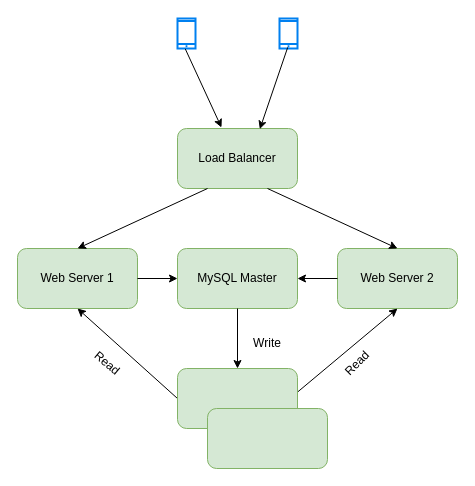
This 475x486 diagram has some shape labels left out. The box of each missing label's shape, as (x1, y1, x2, y2) in pixels:
MySQL Slave 1: (176, 368, 298, 428)
MySQL Slave 2: (206, 408, 328, 468)
